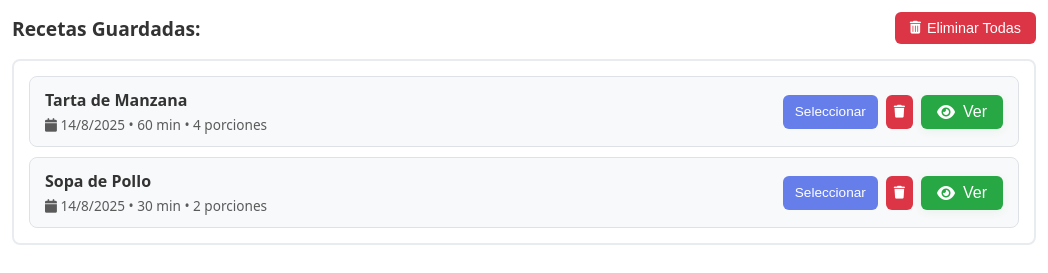
Test: Integración: SavedRecipesList.vue › debe limpiar todas las recetas del store cuando se hace clic en el botón de 'Eliminar Todas'
Expected: the number of list items with class "recipe-item" is 2, [29,76,1019,147]; [29,157,1019,228]
Click the button with class "clear-btn" at (965, 28), box [895,12,1036,44]
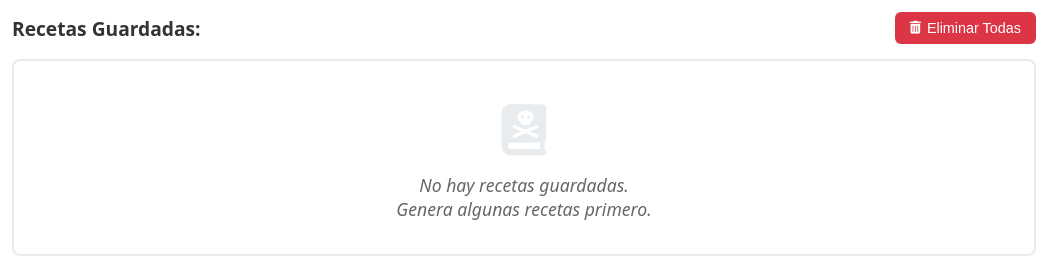
Expected: the list item with class "no-recipes" is shown, [396,104,652,221]
